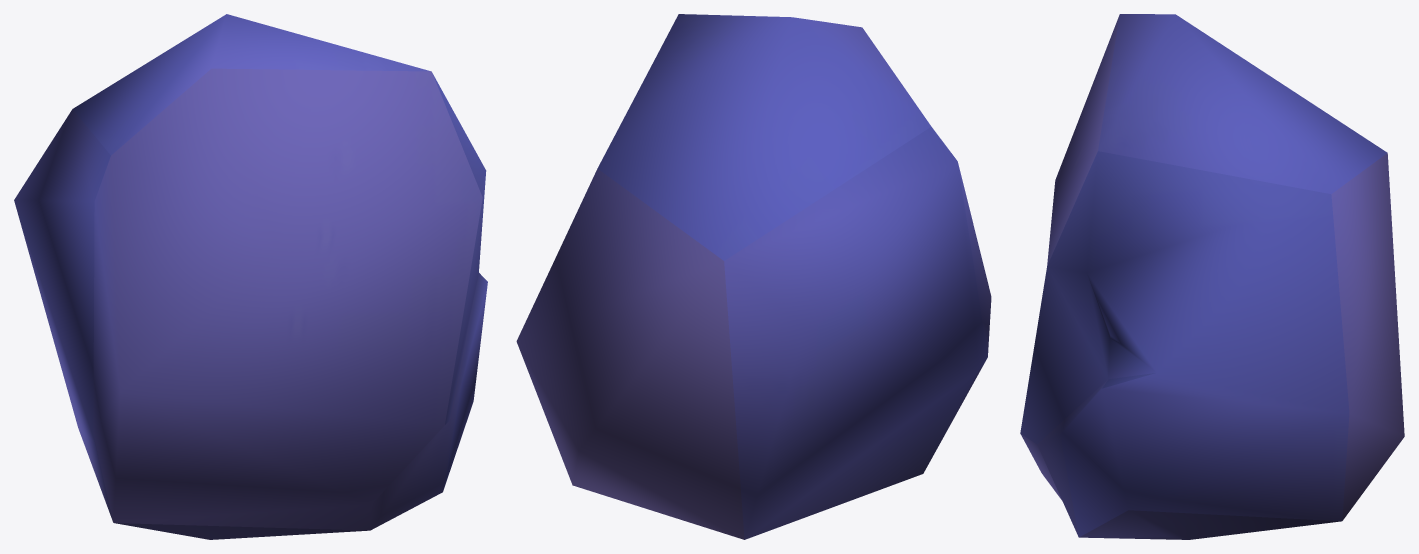
File: model.progressive.glb
3 renders of one model, left to right at view 1: azimuth 30°, elevation 25°; view 2: azimuth 150°, elevation 25°; view 3: azimuth 270°, elevation 25°, orthographic. The views are drawn at different scales.
Visible parts, largest first — view 1: material; view 2: material; view 3: material.
Part boxes in pixels (x1,y1,x2,y2): material: [14, 14, 487, 539]; material: [516, 14, 991, 539]; material: [1020, 14, 1404, 539].
Bounding box in the file's own units: 1.51 × 1.89 × 1.37.
Materials: 1 (1 with a texture image).
